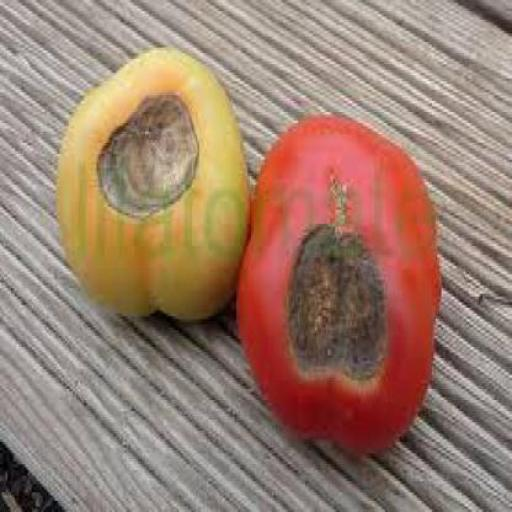biodegradable: (234, 111, 440, 456), (54, 42, 250, 319)
